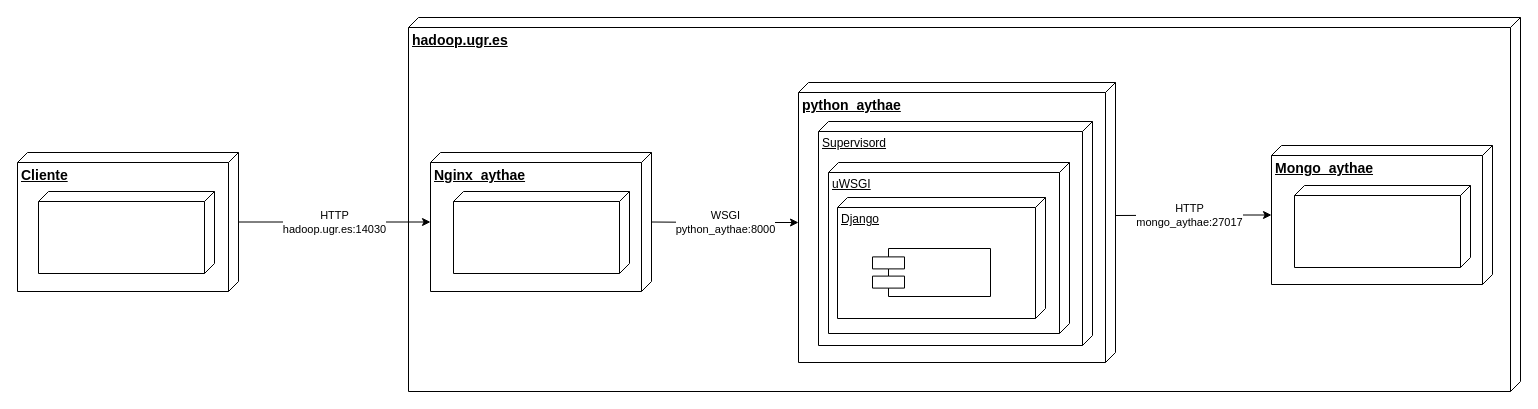
Some shapes in this 1538 by 409 pixel diagram are drawn without their labels. Each missing label, with the centre of its shape:
"MongoDB" belongs at point (1382, 226).
"Navegador Web" belongs at point (126, 232).
"Nginx" belongs at point (541, 232).
"Restaurantes" belongs at point (931, 272).
